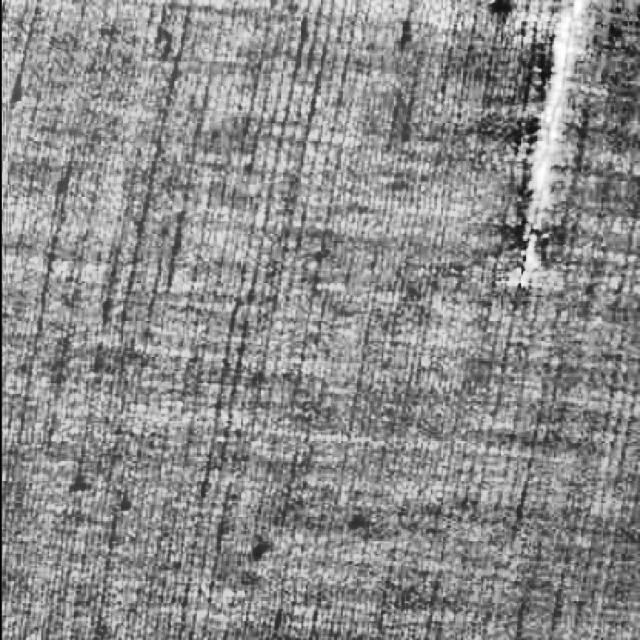hole: (485, 1, 603, 305)
